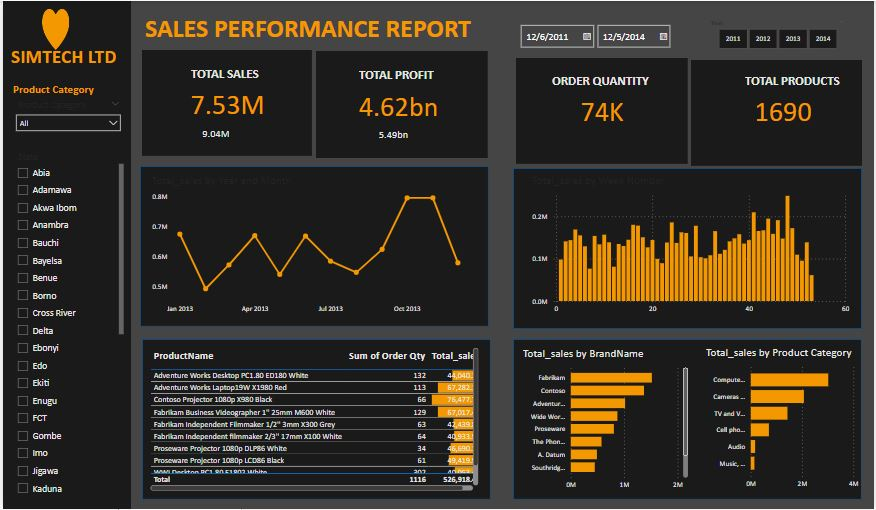

This screenshot's page, from the dashboard's own definition file:
{"tool":"powerbi","page":{"name":"Sales Overview","canvas":[1440,840],"ordinal":0},"visuals":[{"type":"shape","box":[0,0,211.7,840.9],"z":0},{"type":"textbox","box":[7.6,68,202.2,56.7],"z":1000},{"type":"shape","box":[64.3,13.2,45.4,68],"z":2000},{"type":"textbox","box":[230.6,13.2,565,83.1],"z":3000},{"type":"shape","box":[229.8,81,281.1,175.3],"z":4000},{"type":"card","fields":{"Values":["measures_table.Total_sales"]},"box":[254.6,92.6,233.1,150.5],"z":5000},{"type":"textbox","box":[305.9,102.5,132.3,43],"z":6000},{"type":"card","fields":{"Values":["measures_table.Sales last year"]},"box":[315.8,196.8,72.8,46.3],"z":7000},{"type":"shape","box":[517.6,82.7,284.4,176.9],"z":8000},{"type":"card","fields":{"Values":["measures_table.Total_Profit"]},"box":[539.1,94.3,229.8,152.1],"z":9000},{"type":"textbox","box":[584.3,105,160.4,43.6],"z":10000},{"type":"card","fields":{"Values":["measures_table.Profit last year"]},"box":[610.2,198.4,71.1,48],"z":11000},{"type":"shape","box":[1137.6,97.6,282.8,175.3],"z":12000},{"type":"card","fields":{"Values":["Count(Sales_Product.ProductKey)"]},"box":[1188.4,105,202,150.5],"z":13000},{"type":"textbox","box":[1222.1,114.9,198.1,43.6],"z":14000},{"type":"shape","box":[848.3,94.3,284.4,175.3],"z":16000},{"type":"card","fields":{"Values":["Sum(Sales_Data.Order Qty)"]},"box":[889.2,104.8,202.2,151.2],"z":17000},{"type":"textbox","box":[903.2,114.9,184.2,43.6],"z":18000},{"type":"shape","box":[225.8,273.3,576.4,265.4],"z":18001},{"type":"shape","box":[843.3,276.1,577.1,266.2],"z":18002},{"type":"shape","box":[229.8,558.6,576.4,265.4],"z":18003},{"type":"shape","box":[843.8,558.6,576.4,265.4],"z":18004},{"type":"lineChart","fields":{"Y":["measures_table.Total_sales"],"Category":["Date Table.Date.Variation.Date Hierarchy.Year","Date Table.Date.Variation.Date Hierarchy.Month"]},"box":[241.7,285.2,538.8,239.7],"z":18005},{"type":"clusteredColumnChart","fields":{"Category":["Date Table.Week Number"],"Y":["measures_table.Total_sales"]},"box":[869.5,285.2,534.8,239.7],"z":18006},{"type":"tableEx","fields":{"Values":["Sales_Product.ProductName","Sum(Sales_Data.Order Qty)","measures_table.Total_sales"]},"box":[237.7,568.5,552.6,245.6],"z":18007},{"type":"clusteredBarChart","fields":{"Category":["Sales_Product.BrandName"],"Y":["measures_table.Total_sales"]},"box":[854.9,570.5,282.8,244.7],"z":18008},{"type":"clusteredBarChart","fields":{"Y":["measures_table.Total_sales"],"Category":["Sales_Product_Sub_Cat.Product Category"]},"box":[1157.5,568.8,262.9,244.7],"z":18009},{"type":"slicer","fields":{"Values":["Date Table.Date"]},"box":[843.3,29.8,267.9,56.2],"z":18010},{"type":"slicer","fields":{"Values":["Date Table.Year"]},"box":[1157.5,23.1,246.4,62.8],"z":18011},{"type":"slicer","title":"Product Category","fields":{"Values":["Sales_Product_Sub_Cat.Product Category"]},"box":[11.6,133.9,193.5,86],"z":18012},{"type":"slicer","fields":{"Values":["Sales_State.State"]},"box":[11.6,243.1,193.5,582],"z":18013}]}

Visuals, with their boxes in screenshot pixels (x1, y1, x2, y2), scaled from the page's 1440x840 canvas onto the 876x510 screenshot:
shape: detection(0, 0, 129, 509)
textbox: detection(5, 41, 128, 76)
shape: detection(39, 8, 67, 49)
textbox: detection(140, 8, 484, 58)
shape: detection(140, 49, 311, 156)
card - measures_table.Total_sales: detection(155, 56, 297, 148)
textbox: detection(186, 62, 267, 88)
card - measures_table.Sales last year: detection(192, 119, 236, 148)
shape: detection(315, 50, 488, 158)
card - measures_table.Total_Profit: detection(328, 57, 468, 150)
textbox: detection(355, 64, 453, 90)
card - measures_table.Profit last year: detection(371, 120, 414, 150)
shape: detection(692, 59, 864, 166)
card - Count(Sales_Product.ProductKey): detection(723, 64, 846, 155)
textbox: detection(743, 70, 864, 96)
shape: detection(516, 57, 689, 164)
card - Sum(Sales_Data.Order Qty): detection(541, 64, 664, 155)
textbox: detection(549, 70, 662, 96)
shape: detection(137, 166, 488, 327)
shape: detection(513, 168, 864, 329)
shape: detection(140, 339, 490, 500)
shape: detection(513, 339, 864, 500)
lineChart - measures_table.Total_sales x Date Table.Date.Variation.Date Hierarchy.Year: detection(147, 173, 475, 319)
clusteredColumnChart - Date Table.Week Number x measures_table.Total_sales: detection(529, 173, 854, 319)
tableEx - Sales_Product.ProductName x Sum(Sales_Data.Order Qty): detection(145, 345, 481, 494)
clusteredBarChart - Sales_Product.BrandName x measures_table.Total_sales: detection(520, 346, 692, 495)
clusteredBarChart - measures_table.Total_sales x Sales_Product_Sub_Cat.Product Category: detection(704, 345, 864, 494)
slicer - Date Table.Date: detection(513, 18, 676, 52)
slicer - Date Table.Year: detection(704, 14, 854, 52)
"Product Category" slicer: detection(7, 81, 125, 134)
slicer - Sales_State.State: detection(7, 148, 125, 501)
